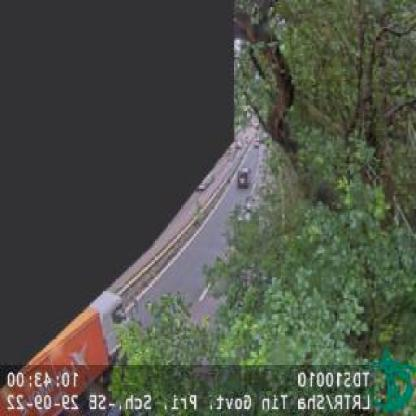Car: (238, 165, 255, 187)
